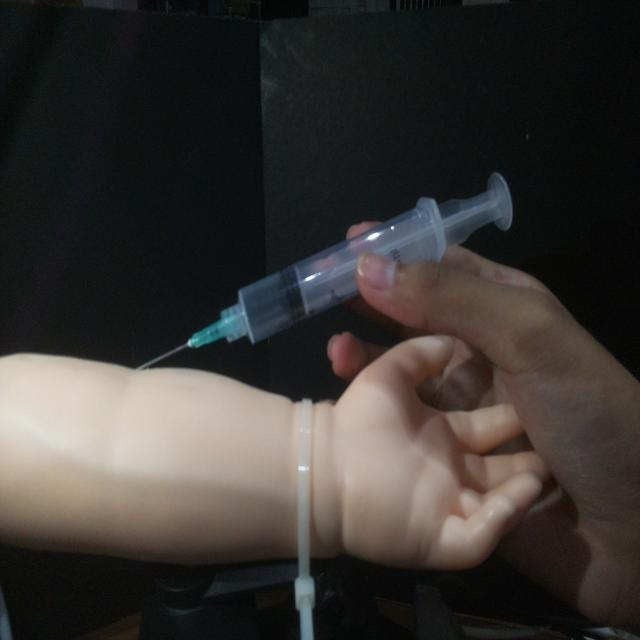22deg: (132, 166, 518, 373)
